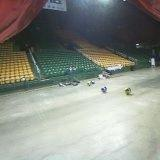Green_Balloon: (125, 88, 131, 96), (88, 81, 90, 86)
Purple_Balloon: (101, 87, 107, 93), (92, 80, 95, 84)
